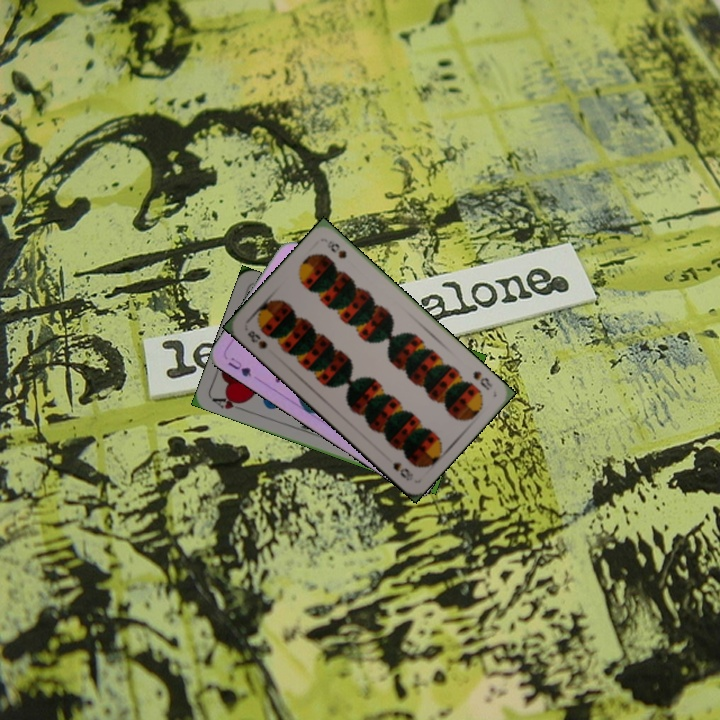GU: (224, 353, 254, 379)
HA: (208, 391, 248, 414)
S8: (243, 326, 270, 352), (469, 367, 495, 393)
